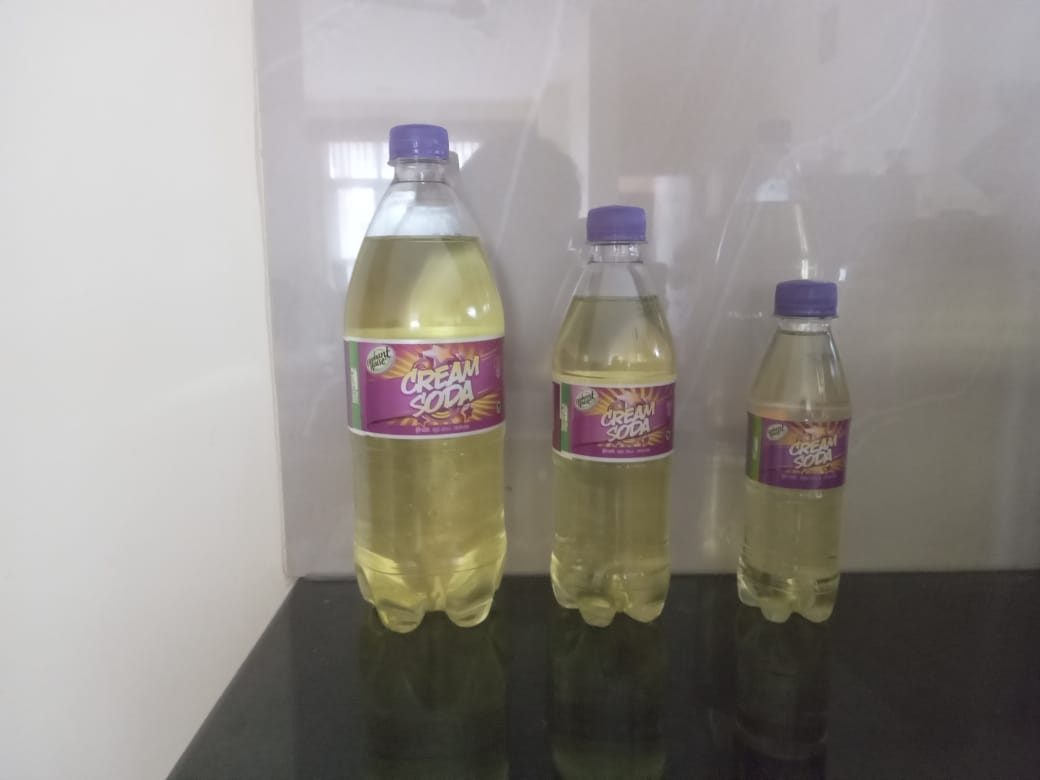M: (336, 114, 517, 640)
S: (541, 201, 686, 632)
Xs: (733, 274, 857, 626)
